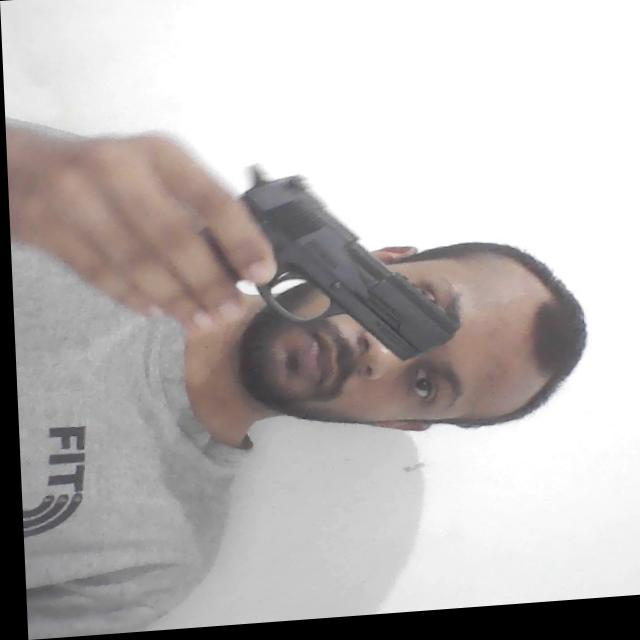handgun: (198, 157, 456, 380)
